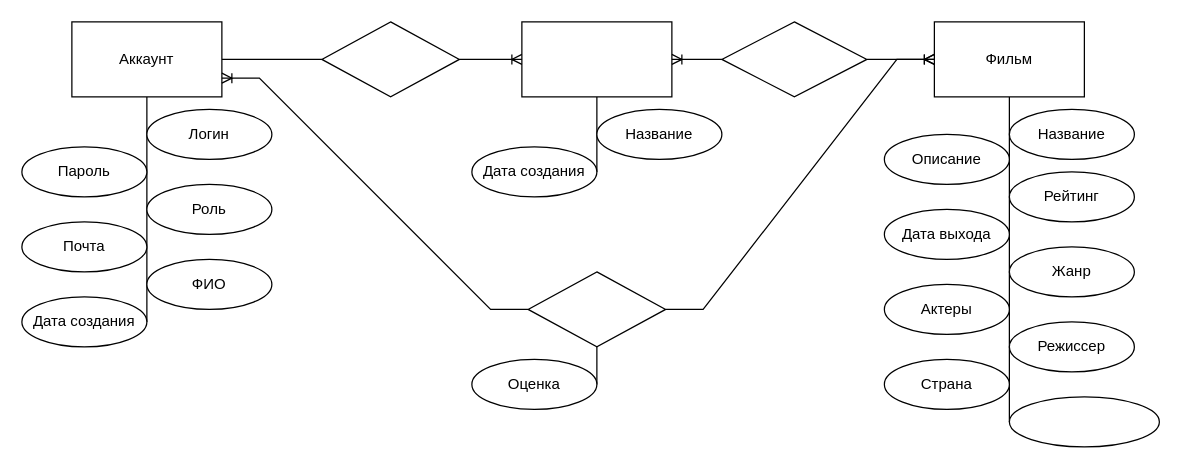
Image size: 1181x469. Some labels were removed from this diagram. The centre of each missing label's shape, as x and y in pixels:
Оценено: point (596, 309)
Принадлежит: point (390, 59)
Продолжительность: point (1083, 421)
Содержится в: point (794, 59)
Список: point (596, 59)
